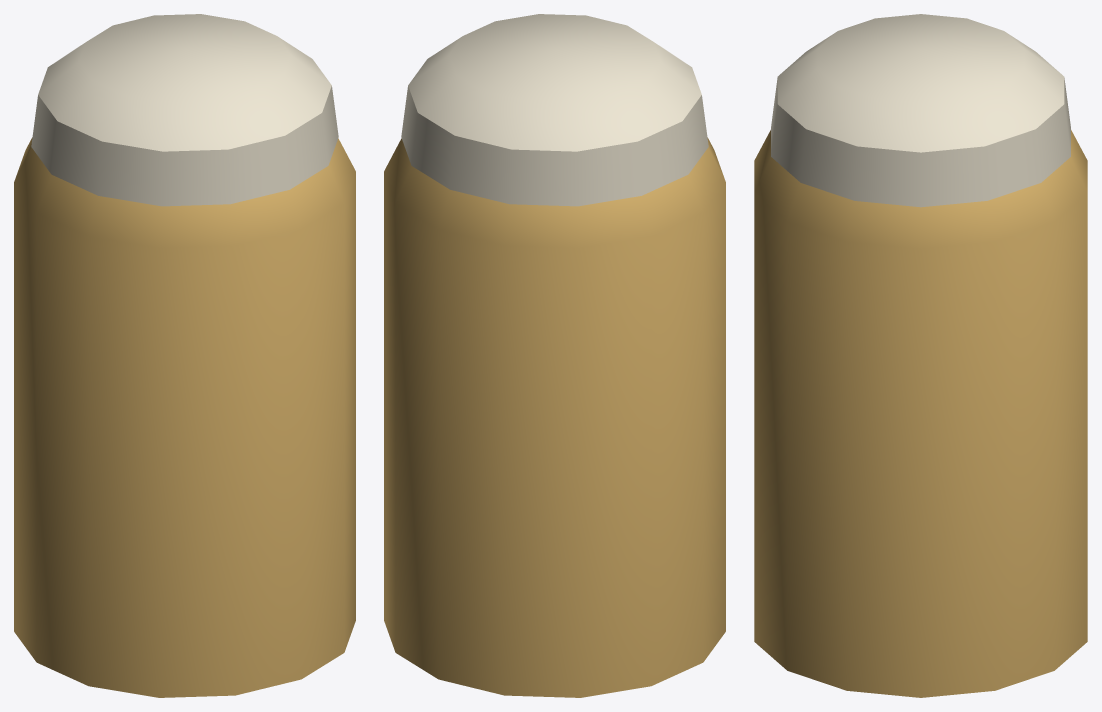
Rendered from tpl_dispensa_vaso_l_ceci_giuseppe.glb.
3 views of the same model, side by side, from view 1: azimuth 30°, elevation 25°; view 2: azimuth 150°, elevation 25°; view 3: azimuth 270°, elevation 25° (orthographic).
Parts seen in each view (by area): view 1: tpl_dispensa_vaso_l_ceci_giuseppe; view 2: tpl_dispensa_vaso_l_ceci_giuseppe; view 3: tpl_dispensa_vaso_l_ceci_giuseppe.
Part boxes in pixels (bbox=[...]): tpl_dispensa_vaso_l_ceci_giuseppe: bbox=[14, 14, 355, 697]; tpl_dispensa_vaso_l_ceci_giuseppe: bbox=[384, 14, 725, 697]; tpl_dispensa_vaso_l_ceci_giuseppe: bbox=[754, 14, 1087, 697].
Bounding box in the file's own units: 0.14 × 0.26 × 0.1365.
